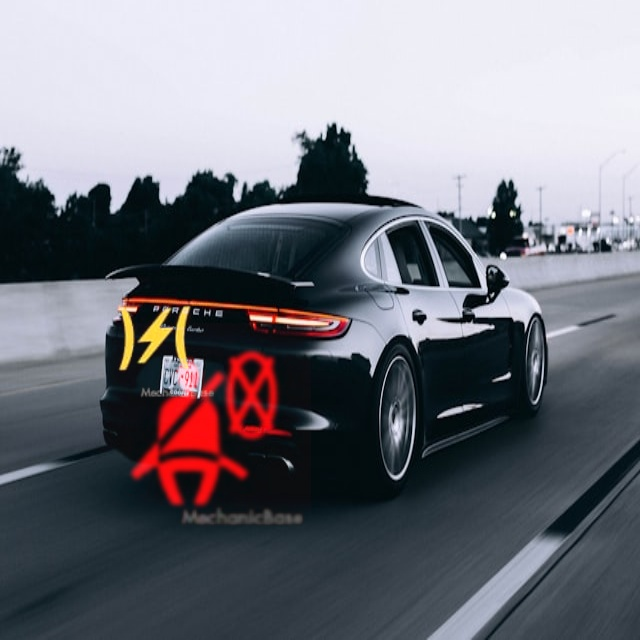symbol: (99, 323, 311, 535), (91, 275, 219, 403)
